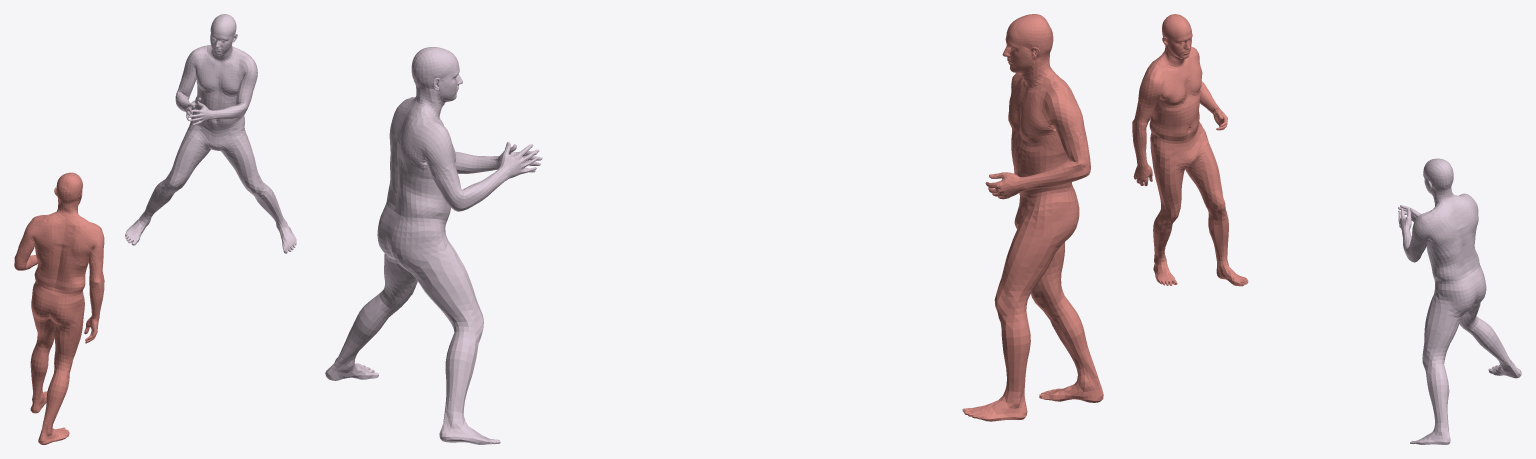
File: frame_0004.glb
3 views of the same model, side by side, from view 1: azimuth 30°, elevation 25°; view 2: azimuth 150°, elevation 25°; view 3: azimuth 270°, elevation 25° (orthographic). The views are drawn at different scales.
Parts seen in each view (by area): view 1: human_1, human_2; view 2: human_2, human_1; view 3: human_1, human_2.
Part boxes in pixels (x1,y1,x2,y2): human_1: (14, 172, 104, 444); human_2: (125, 14, 296, 253); human_2: (325, 47, 542, 444); human_1: (962, 14, 1103, 421); human_1: (1132, 14, 1248, 286); human_2: (1398, 158, 1521, 444).
Size of the model in its own units: 3.04 by 1.9 by 2.44.
